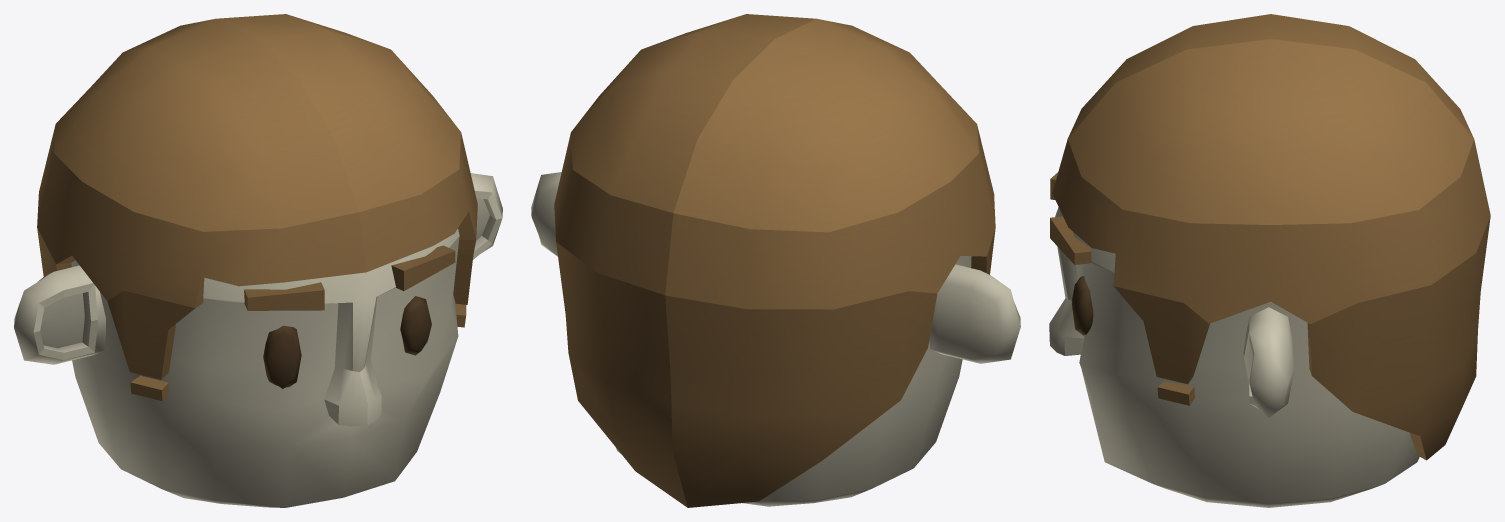
The model's file is Villager_Head.fbx.
3 views of the same model, side by side, from view 1: azimuth 30°, elevation 25°; view 2: azimuth 150°, elevation 25°; view 3: azimuth 270°, elevation 25° (orthographic).
Parts seen in each view (by area): view 1: polySurface92; view 2: polySurface92; view 3: polySurface92.
Part boxes in pixels (x1,y1,x2,y2): polySurface92: (14,14,502,507); polySurface92: (531,14,1020,507); polySurface92: (1049,14,1490,507).
Size of the model in its own units: 1.26 by 1.05 by 0.9844.
